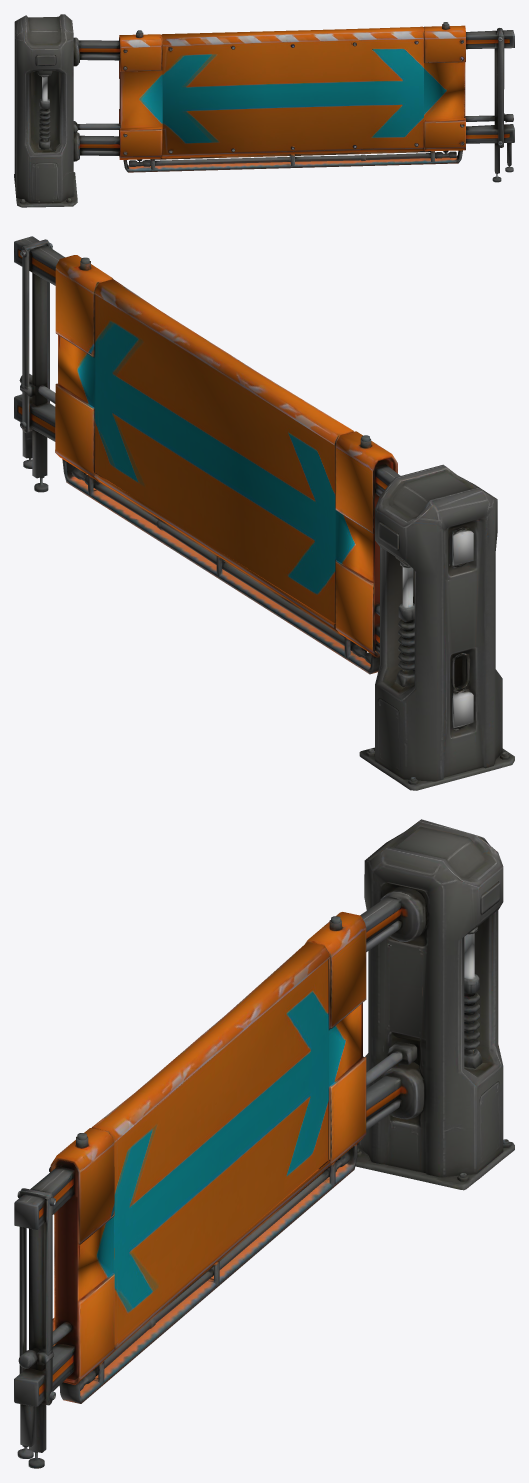
File: selected.fbx
3 views of the same model, one above another, from view 1: azimuth 30°, elevation 25°; view 2: azimuth 150°, elevation 25°; view 3: azimuth 270°, elevation 25° (orthographic). The views are drawn at different scales.
Parts seen in each view (by area): view 1: tripo_node_105fd1bf-2774-40c0-a285-13211975a5df; view 2: tripo_node_105fd1bf-2774-40c0-a285-13211975a5df; view 3: tripo_node_105fd1bf-2774-40c0-a285-13211975a5df.
Part boxes in pixels (x1,y1,x2,y2): tripo_node_105fd1bf-2774-40c0-a285-13211975a5df: (14, 14, 514, 207); tripo_node_105fd1bf-2774-40c0-a285-13211975a5df: (14, 236, 514, 790); tripo_node_105fd1bf-2774-40c0-a285-13211975a5df: (14, 819, 514, 1468).
Bounding box in the file's own units: 0.9995 × 0.4028 × 0.5825.
1 material, 1 textured.
